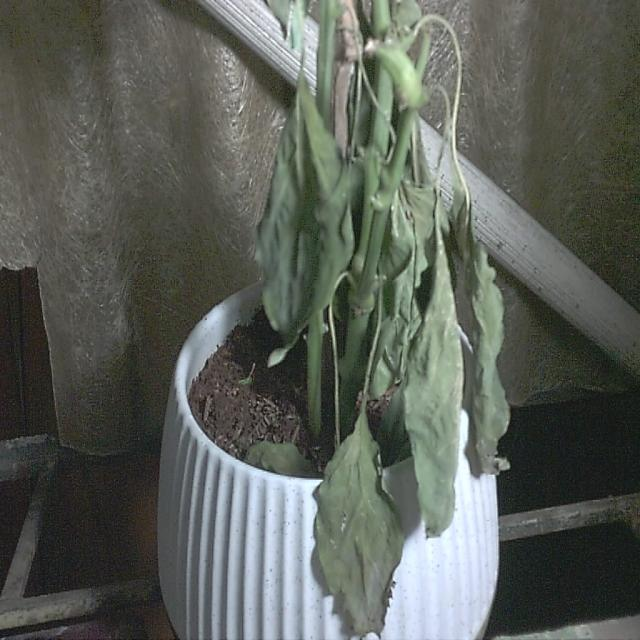Leaf: (253, 77, 354, 367), (314, 423, 402, 640), (400, 245, 460, 538), (453, 177, 511, 478)
